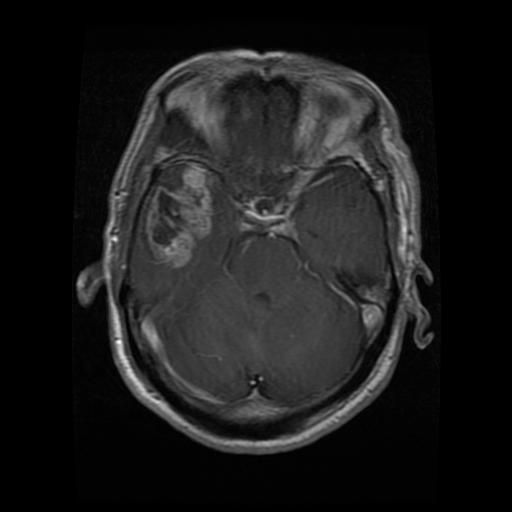Gliomia_tumour: (144, 163, 214, 269)
